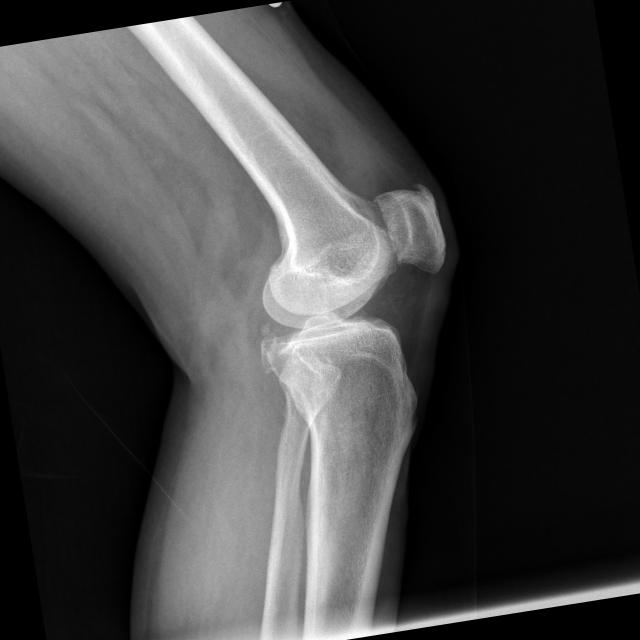Knee: (235, 176, 468, 414)
